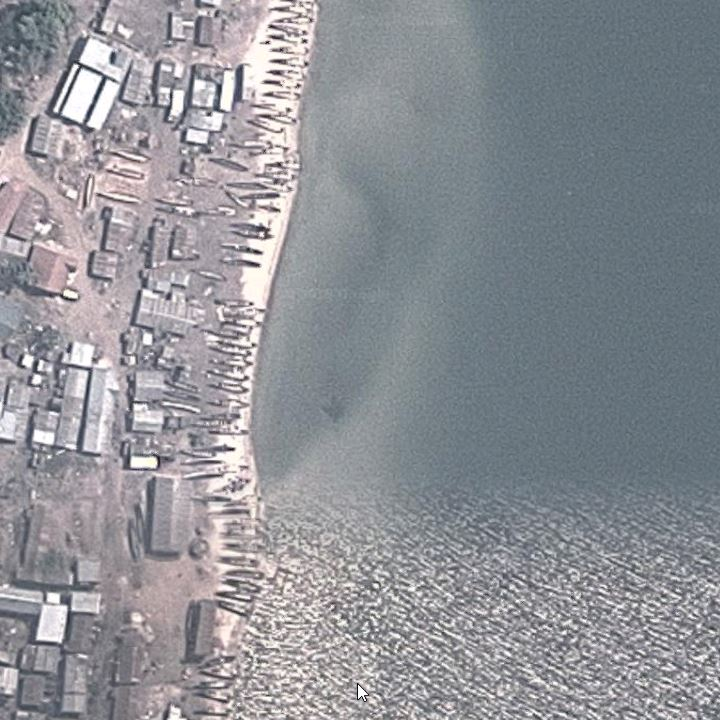boat: (208, 396, 253, 412), (208, 333, 259, 347), (203, 367, 250, 382), (217, 553, 261, 569), (206, 341, 250, 357), (214, 601, 251, 620), (246, 118, 287, 135), (181, 467, 229, 481), (188, 490, 235, 504), (207, 423, 250, 438), (207, 380, 250, 395), (208, 158, 250, 173), (223, 568, 264, 583), (208, 357, 255, 370), (239, 188, 281, 202), (261, 179, 297, 195), (216, 243, 264, 255), (214, 590, 255, 604), (222, 579, 260, 594), (265, 57, 312, 69), (177, 445, 217, 459), (208, 505, 251, 518), (256, 168, 299, 181), (199, 411, 245, 423), (265, 67, 311, 79), (219, 530, 258, 544), (230, 229, 275, 241), (223, 189, 250, 209), (266, 4, 315, 15), (192, 677, 233, 690), (198, 441, 239, 454), (227, 221, 274, 232), (221, 306, 264, 318), (220, 257, 263, 269), (199, 666, 238, 679), (260, 113, 299, 126), (226, 180, 268, 192), (180, 456, 225, 467), (271, 14, 316, 25), (194, 690, 232, 703), (219, 519, 257, 532), (269, 33, 310, 45), (267, 24, 311, 35), (249, 104, 297, 114), (212, 297, 255, 308), (261, 78, 303, 89), (264, 89, 302, 101), (262, 159, 303, 170), (218, 543, 261, 553), (270, 44, 312, 54), (191, 707, 229, 718), (226, 317, 260, 328), (221, 322, 252, 334), (254, 203, 281, 216), (198, 269, 225, 281)
